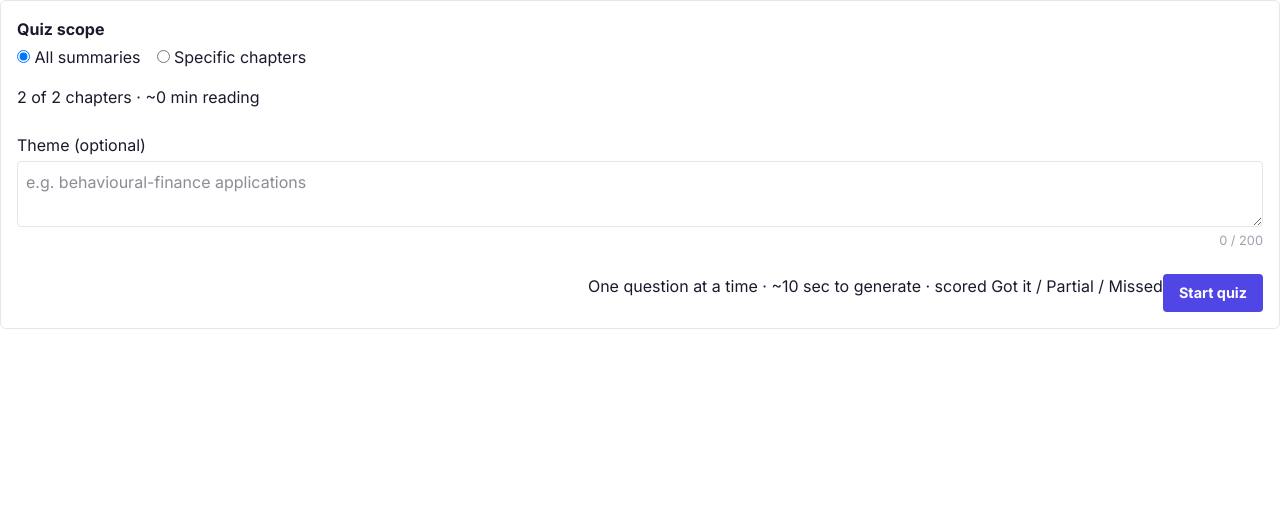
Scenario: ScopePicker — budget enforcement › blocks chapter add at >100% budget with verbatim copy
Switch to specific_chapters mode first
Click the radio button with test id "scope-mode-specific" at (163, 56), box [156, 50, 170, 63]
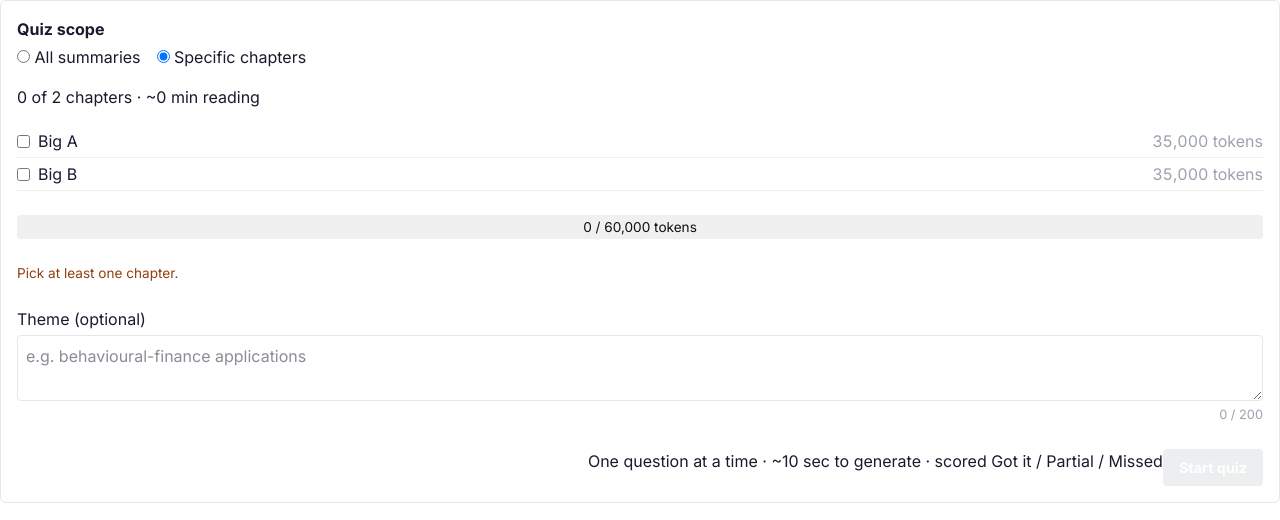
Click the checkbox with test id "chapter-cb-10" at (24, 141), box [17, 134, 30, 148]
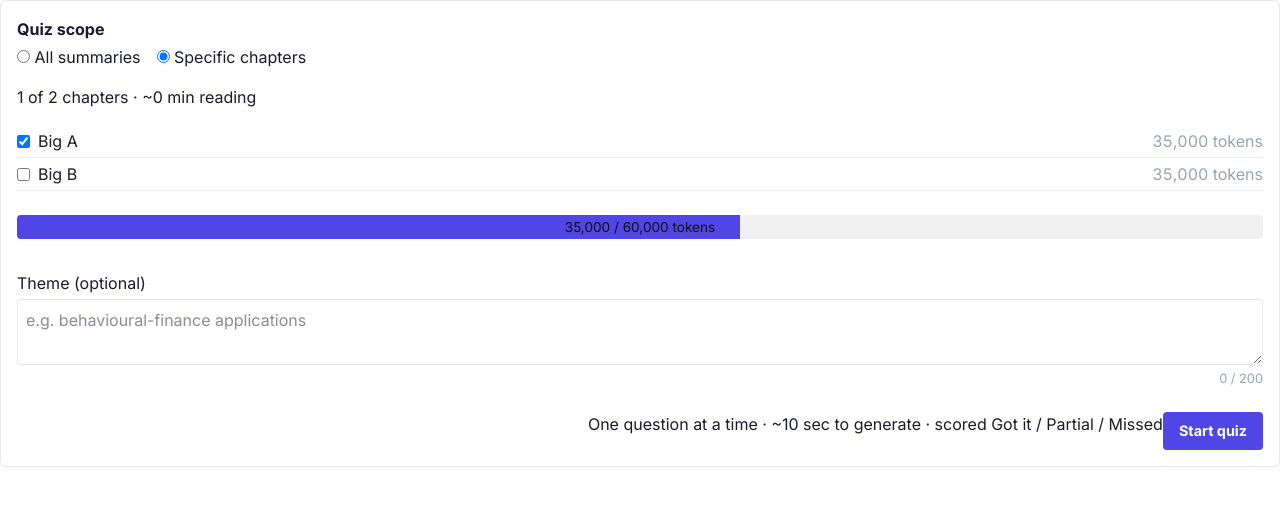
Click the checkbox with test id "chapter-cb-11" at (24, 174), box [17, 168, 30, 180]
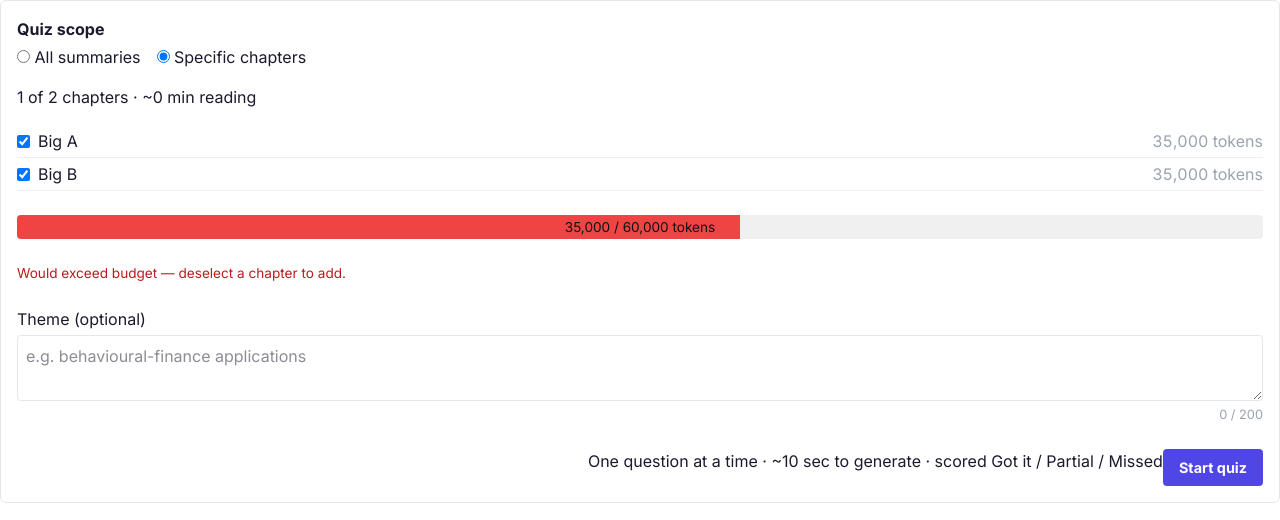
Expected: the text "Would exceed budget — deselect a chapter to add." is shown, [17, 265, 346, 281]
